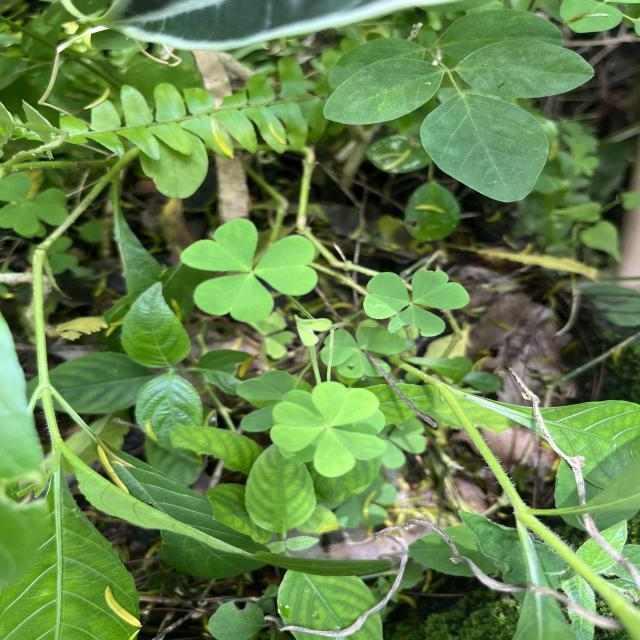Oxalis corniculata: (180, 218, 320, 324), (269, 379, 390, 478), (362, 266, 471, 338)
